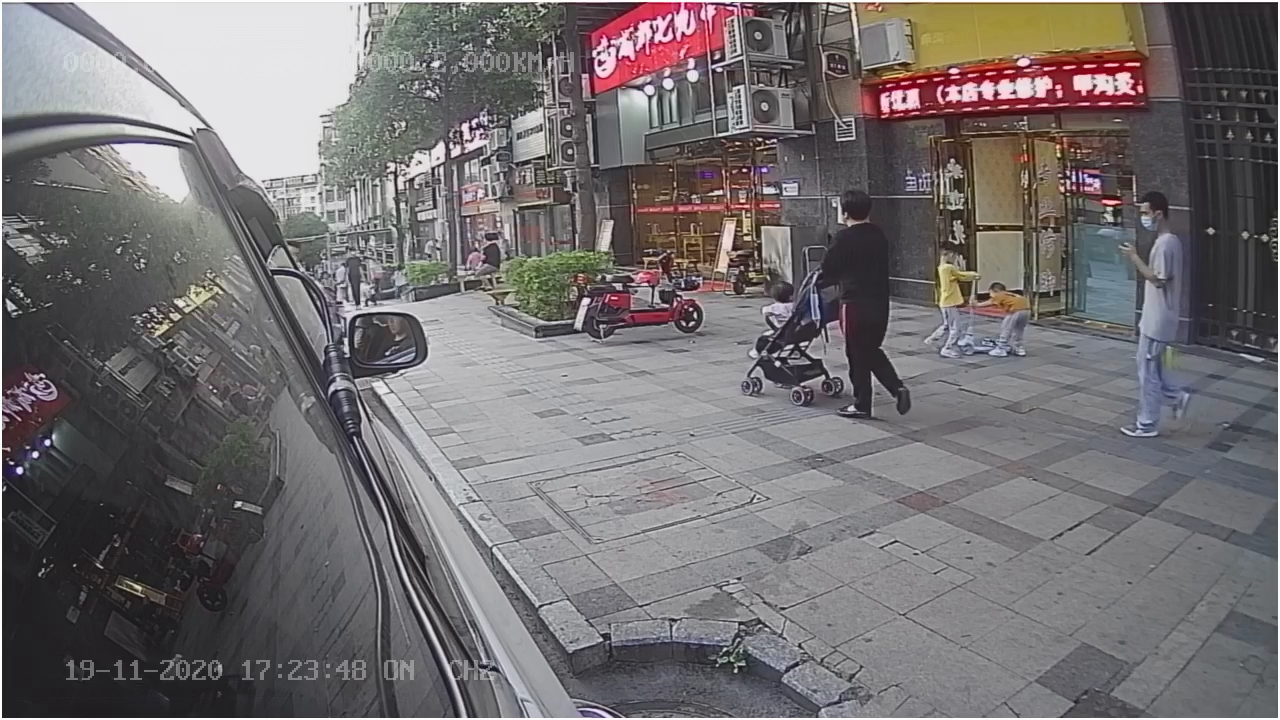person: (810, 189, 912, 426), (1114, 191, 1201, 444), (928, 241, 977, 360), (981, 280, 1033, 360)
